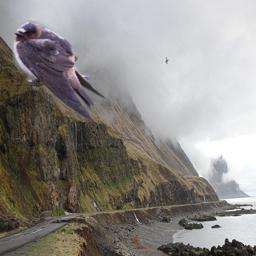Swallow: (11, 20, 108, 122)
